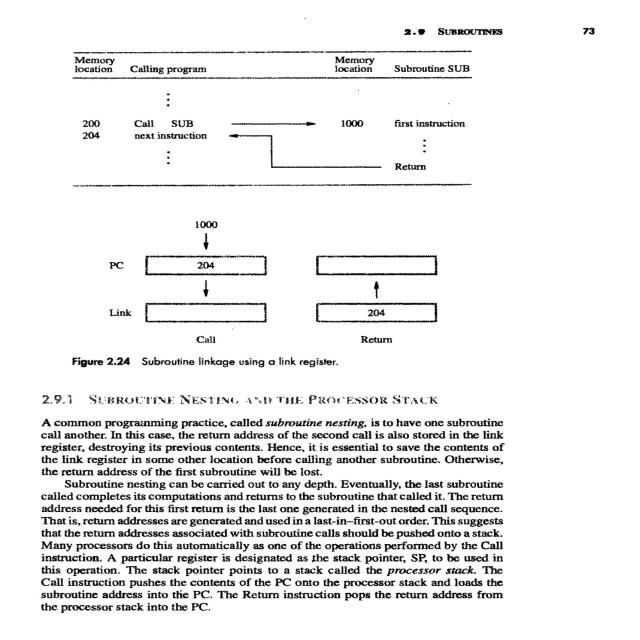diagram: (30, 27, 501, 376)
